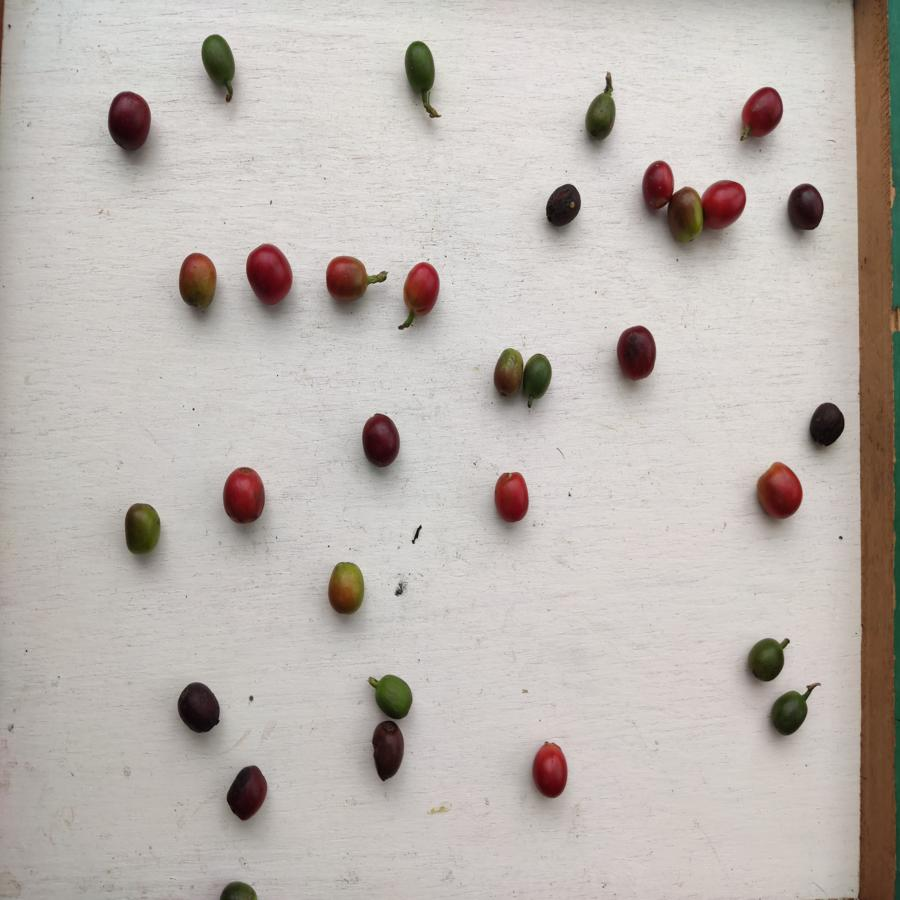Inmaduro: (745, 636, 787, 684), (201, 32, 238, 86), (403, 39, 435, 97), (372, 675, 413, 720), (582, 93, 618, 141), (771, 690, 807, 735), (523, 353, 552, 405), (217, 880, 262, 900)
Maduro: (243, 244, 294, 305), (756, 462, 805, 522), (220, 465, 266, 525), (530, 739, 571, 801), (322, 255, 371, 305), (741, 83, 785, 138), (704, 181, 748, 232), (492, 469, 530, 524), (404, 263, 440, 315), (642, 161, 672, 211)
Pinton: (177, 250, 218, 315), (122, 499, 165, 557), (328, 561, 370, 615), (668, 188, 703, 245), (493, 346, 523, 398)
Sobremaduro: (224, 763, 269, 823), (109, 91, 150, 154), (176, 682, 222, 735), (617, 324, 657, 383), (359, 413, 401, 469), (787, 179, 826, 237), (370, 722, 406, 783), (542, 183, 584, 231), (808, 400, 846, 448)
